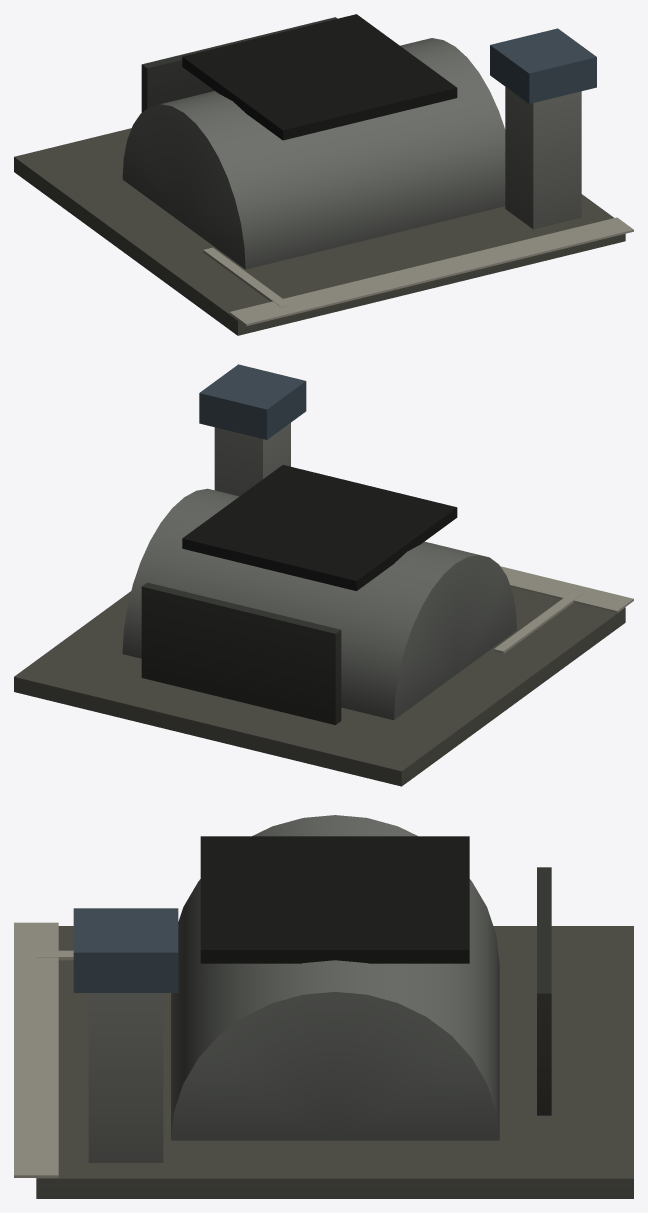
Rendered from m_uplink_2bfbcbf2.glb.
3 renders of one model, top to bottom at view 1: azimuth 30°, elevation 25°; view 2: azimuth 150°, elevation 25°; view 3: azimuth 270°, elevation 25°, orthographic. The views are drawn at different scales.
Parts seen in each view (by area): view 1: mesh; view 2: mesh; view 3: mesh.
Boxes of the visible parts, bbox=[...] form: mesh: bbox=[14, 14, 633, 335]; mesh: bbox=[14, 364, 633, 786]; mesh: bbox=[14, 815, 633, 1198].
Bounding box in the file's own units: 80 × 35 × 83.
